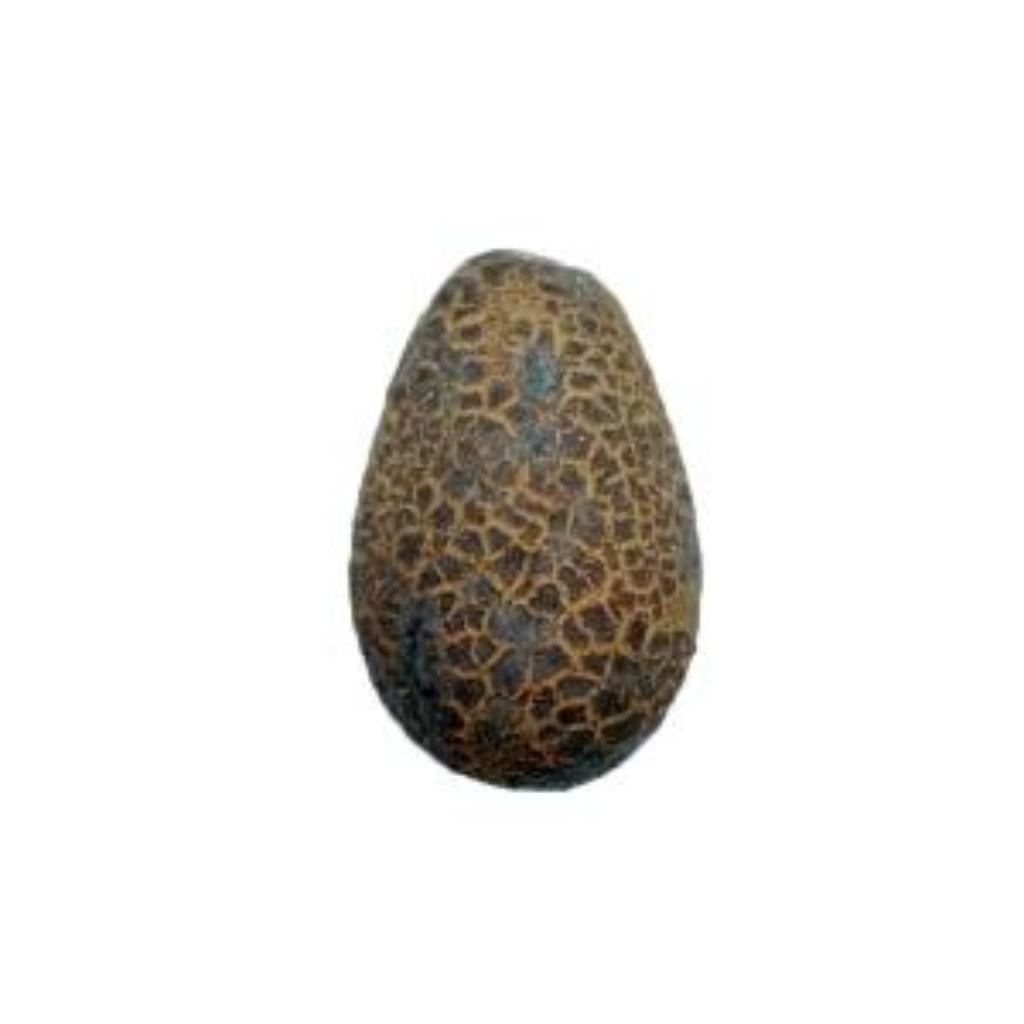cercospora: (331, 241, 741, 804)
